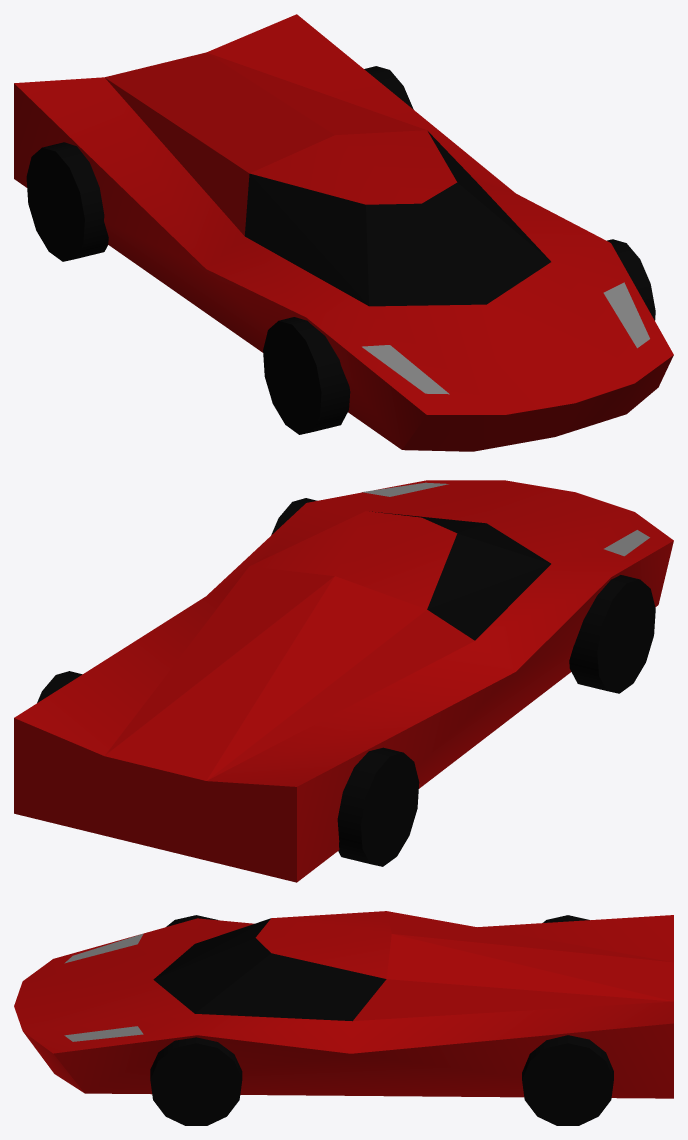
File: car.fbx
The picture shows the model from 3 angles, top to bottom: view 1: azimuth 30°, elevation 25°; view 2: azimuth 150°, elevation 25°; view 3: azimuth 270°, elevation 25°; orthographic projection. The views are drawn at different scales.
Visible parts, largest first — view 1: Box001, Front Right Wheel, Back Right Wheel, Front Left Wheel, Back Left Wheel; view 2: Box001, Back Right Wheel, Front Right Wheel; view 3: Box001, Back Left Wheel, Front Left Wheel.
Boxes of the visible parts, x1,y1,x2,y2 form: Box001: (14,14,673,451); Front Right Wheel: (263,317,350,434); Back Right Wheel: (26,142,108,261); Front Left Wheel: (607,239,655,320); Back Left Wheel: (364,66,413,109); Box001: (14,480,673,882); Back Right Wheel: (337,747,419,866); Front Right Wheel: (569,575,655,693); Box001: (14,911,673,1098); Back Left Wheel: (522,1035,613,1125); Front Left Wheel: (150,1037,242,1125).
Size of the model in its own units: 102 by 47.66 by 223.
